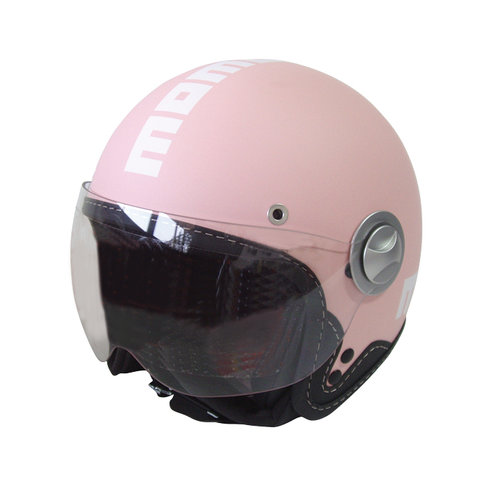helmet: (90, 71, 435, 384)
